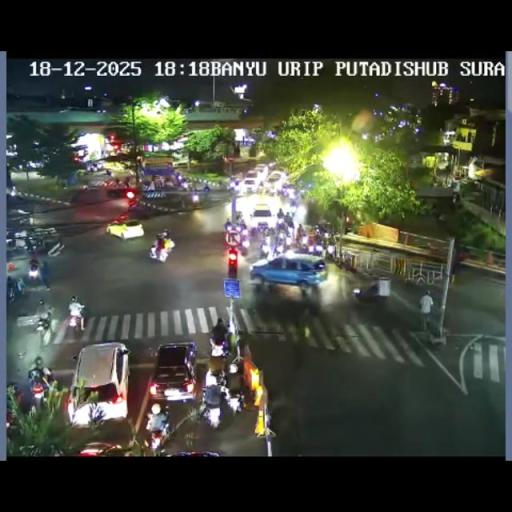Car: (68, 342, 130, 426), (148, 342, 198, 403), (250, 254, 328, 290), (65, 415, 137, 454), (351, 277, 389, 302), (106, 219, 144, 239), (106, 182, 138, 202), (250, 203, 273, 228), (266, 170, 286, 188), (72, 144, 90, 162), (240, 178, 258, 192), (254, 163, 268, 178)
Motorcycle: (28, 358, 54, 408), (286, 308, 316, 350), (144, 404, 170, 450), (198, 394, 224, 429), (207, 333, 229, 374), (5, 386, 22, 430), (150, 230, 174, 260), (32, 314, 54, 346), (225, 386, 244, 416), (66, 306, 84, 336), (334, 250, 356, 273), (305, 237, 326, 256), (39, 258, 51, 290), (27, 262, 41, 286), (306, 282, 320, 306), (315, 219, 332, 236), (6, 277, 16, 304), (282, 186, 298, 202), (234, 238, 248, 256), (24, 236, 37, 253), (326, 240, 338, 258), (15, 276, 26, 295), (271, 236, 281, 256), (281, 222, 293, 238), (238, 224, 249, 241), (258, 242, 268, 259), (228, 178, 240, 192), (250, 222, 260, 237), (287, 201, 297, 216), (234, 210, 244, 223), (6, 237, 16, 250), (191, 191, 200, 204), (266, 185, 276, 196), (257, 184, 268, 194), (182, 180, 192, 190), (86, 162, 95, 173), (224, 218, 231, 232), (262, 226, 270, 236), (10, 186, 18, 196), (162, 228, 170, 238), (301, 234, 308, 245), (277, 209, 284, 219), (203, 183, 210, 191), (105, 169, 111, 176)
